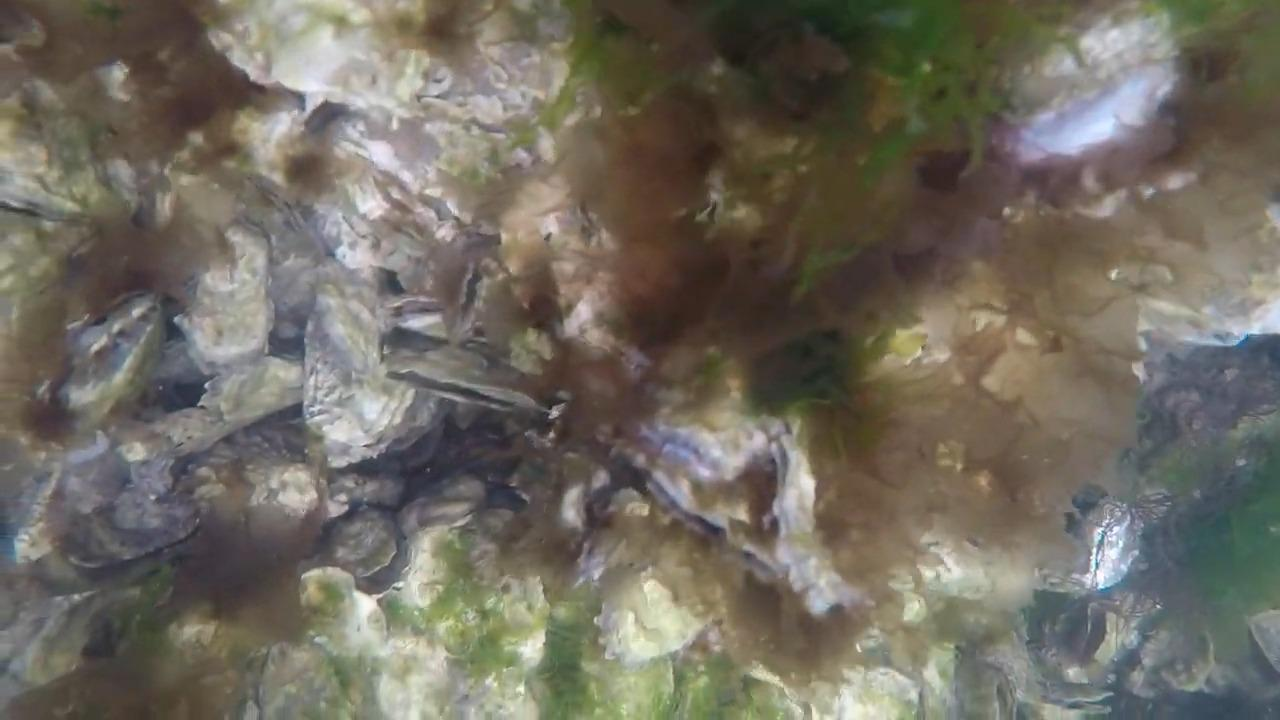Oyster: (747, 88, 968, 293), (990, 7, 1194, 188), (615, 407, 813, 569), (754, 428, 875, 622), (301, 273, 422, 465), (269, 569, 413, 718), (1131, 333, 1280, 469), (217, 0, 414, 101), (1, 98, 138, 231), (1, 579, 163, 691), (52, 288, 171, 430), (176, 225, 273, 373), (326, 99, 464, 199), (588, 563, 713, 671), (179, 353, 310, 456), (1059, 489, 1173, 594), (736, 21, 856, 115), (389, 528, 503, 626), (387, 344, 548, 412), (178, 418, 306, 488), (393, 475, 512, 550), (245, 635, 352, 718), (1123, 615, 1227, 698), (312, 502, 409, 589), (10, 451, 80, 562), (239, 454, 330, 539), (573, 649, 680, 720), (368, 634, 455, 719), (905, 538, 1003, 609), (559, 314, 654, 387), (257, 191, 337, 277), (46, 550, 177, 602), (638, 421, 739, 487), (640, 459, 732, 531), (411, 68, 528, 122), (820, 663, 928, 720), (143, 331, 218, 401), (294, 564, 369, 631), (1082, 601, 1150, 674), (946, 645, 1011, 720), (113, 520, 207, 569), (1130, 294, 1220, 340), (738, 666, 813, 719), (447, 333, 542, 374), (1051, 602, 1111, 666), (94, 292, 164, 345), (339, 587, 393, 650), (62, 538, 159, 573), (377, 321, 460, 357), (1244, 607, 1280, 681), (0, 191, 80, 224), (1108, 259, 1178, 294), (0, 2, 49, 52), (245, 170, 296, 218), (249, 80, 308, 120), (557, 475, 591, 536), (477, 480, 534, 516), (1036, 569, 1102, 600), (1038, 690, 1118, 714), (388, 294, 449, 323), (457, 261, 484, 323), (240, 668, 267, 720), (378, 265, 407, 297)
